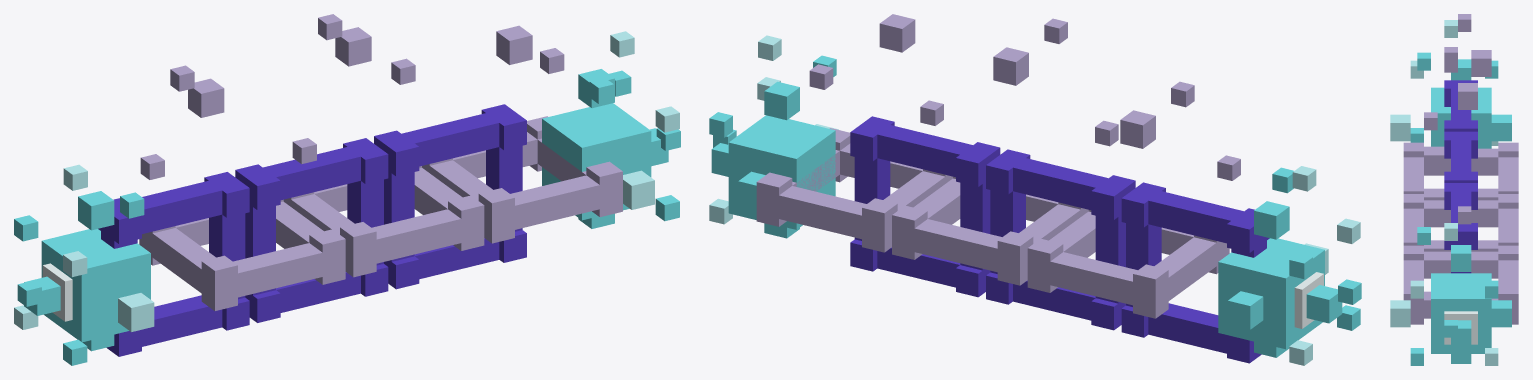
Rendered from fx_soulchain.glb.
The picture shows the model from 3 angles, left to right: view 1: azimuth 30°, elevation 25°; view 2: azimuth 150°, elevation 25°; view 3: azimuth 270°, elevation 25°; orthographic projection. The views are drawn at different scales.
Visible parts, largest first — view 1: soulchain_AL_FX_05_SoulChain_Mesh1, soulchain_cap_start_Mesh1, soulchain_cap_end_Mesh1; view 2: soulchain_AL_FX_05_SoulChain_Mesh1, soulchain_cap_start_Mesh1, soulchain_cap_end_Mesh1; view 3: soulchain_AL_FX_05_SoulChain_Mesh1, soulchain_cap_end_Mesh1, soulchain_cap_start_Mesh1.
Boxes of the visible parts, x1,y1,x2,y2 form: soulchain_AL_FX_05_SoulChain_Mesh1: (98,14,622,356); soulchain_cap_start_Mesh1: (14,164,154,365); soulchain_cap_end_Mesh1: (542,31,680,228); soulchain_AL_FX_05_SoulChain_Mesh1: (756,14,1269,363); soulchain_cap_start_Mesh1: (1218,166,1361,365); soulchain_cap_end_Mesh1: (709,35,838,238); soulchain_AL_FX_05_SoulChain_Mesh1: (1403,14,1518,324); soulchain_cap_end_Mesh1: (1390,223,1511,365); soulchain_cap_start_Mesh1: (1390,20,1511,148).
Bounding box in the file's own units: 10.62 × 4.38 × 2.38.
